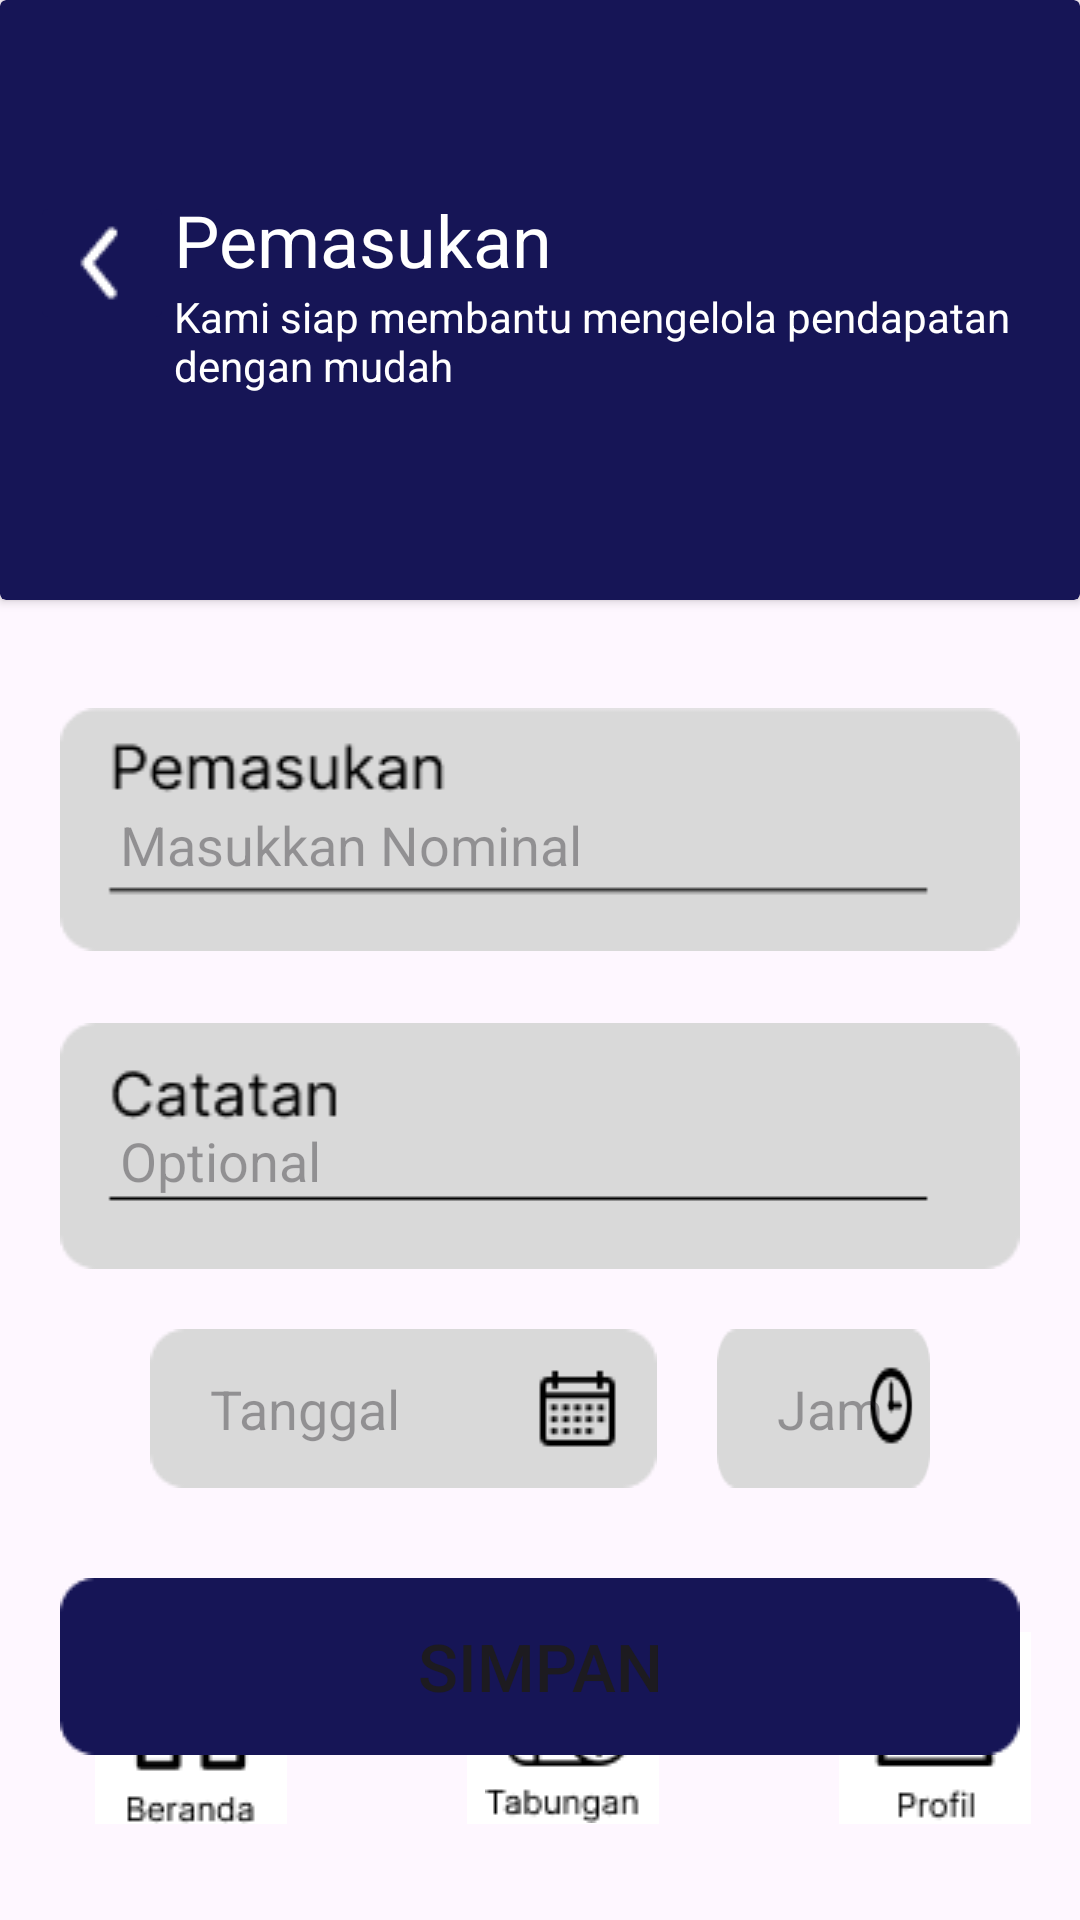

Named icons in this screenshot (1080*1920) and their centers, point (x, y):
back: point (99, 263)
